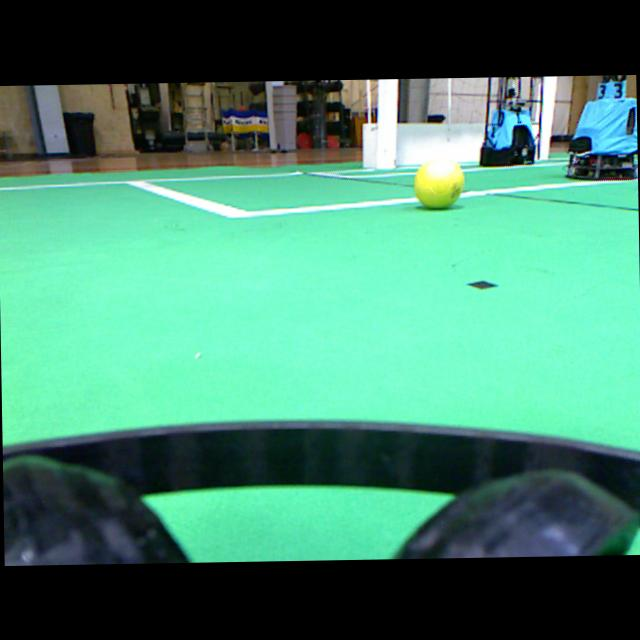ball: (414, 159, 463, 208)
goal: (376, 79, 397, 167), (538, 76, 556, 159)
